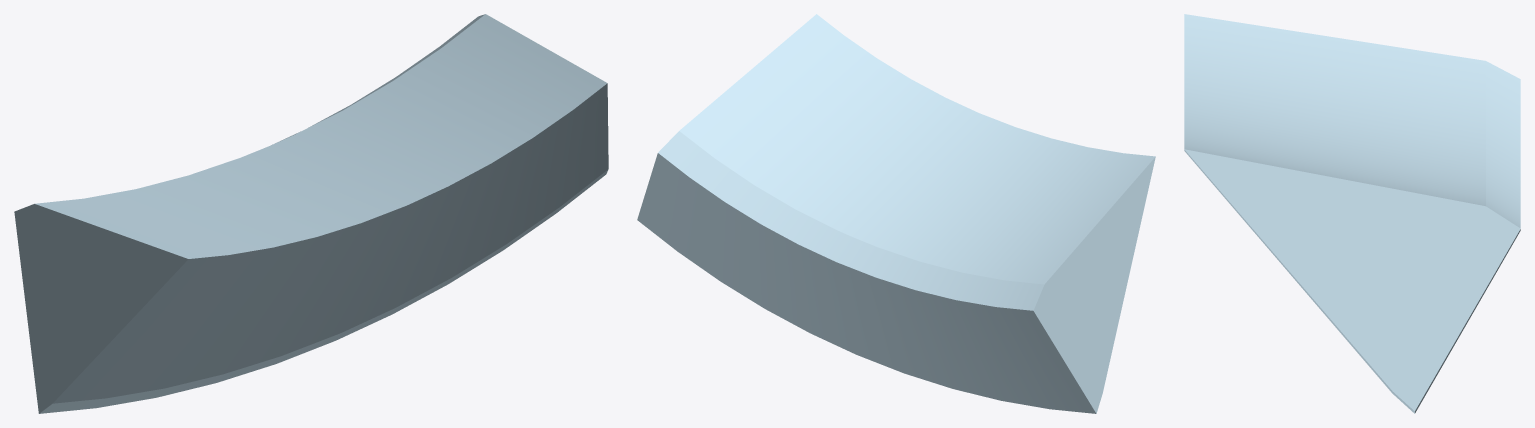
File: Sub_8_Cell_1_1.gltf
The picture shows the model from 3 angles, left to right: view 1: azimuth 30°, elevation 25°; view 2: azimuth 150°, elevation 25°; view 3: azimuth 270°, elevation 25°; orthographic projection. The views are drawn at different scales.
Visible parts, largest first — view 1: Sub_8_Cell_1_1; view 2: Sub_8_Cell_1_1; view 3: Sub_8_Cell_1_1.
Boxes of the visible parts, bbox=[...] form: Sub_8_Cell_1_1: bbox=[14, 14, 608, 413]; Sub_8_Cell_1_1: bbox=[637, 14, 1155, 413]; Sub_8_Cell_1_1: bbox=[1184, 14, 1520, 413].
Size of the model in its own units: 0.1169 by 0.0617 by 0.0581.
